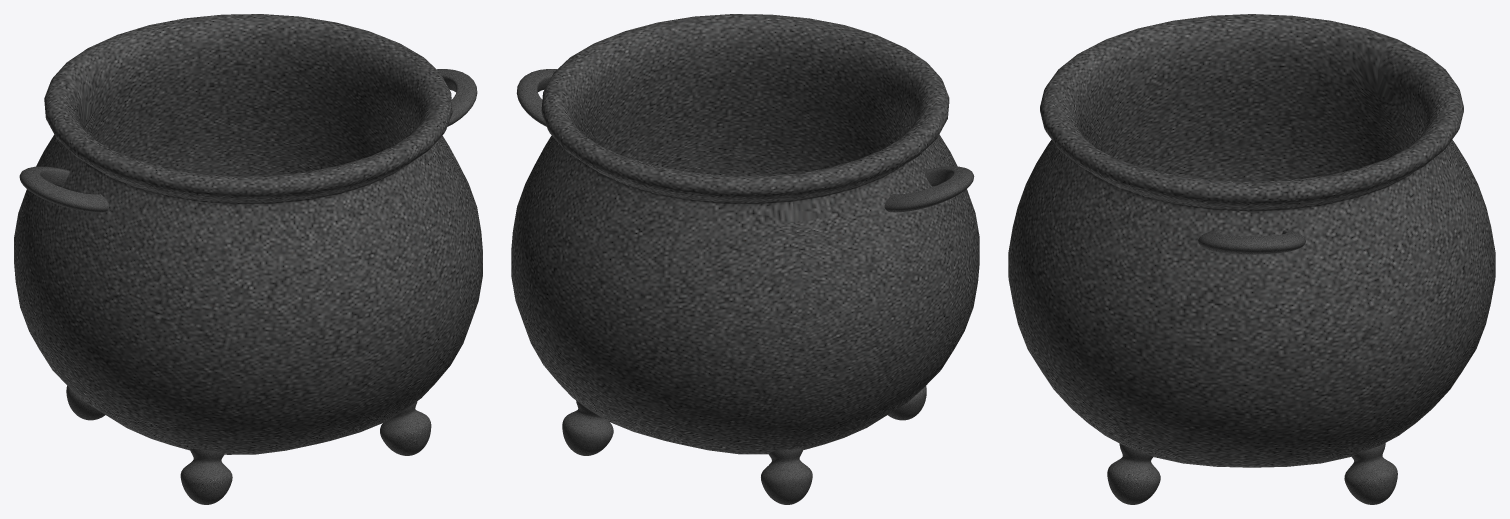
Rendered from cauldron.glb.
3 renders of one model, left to right at view 1: azimuth 30°, elevation 25°; view 2: azimuth 150°, elevation 25°; view 3: azimuth 270°, elevation 25°, orthographic. The views are drawn at different scales.
Parts seen in each view (by area): view 1: group2; view 2: group2; view 3: group2.
Part boxes in pixels (box(x1,y1,x2,y2)): group2: box(14, 14, 482, 504); group2: box(511, 14, 979, 504); group2: box(1008, 14, 1495, 504).
Size of the model in its own units: 2.74 by 2 by 2.51.
1 material, 1 textured.
